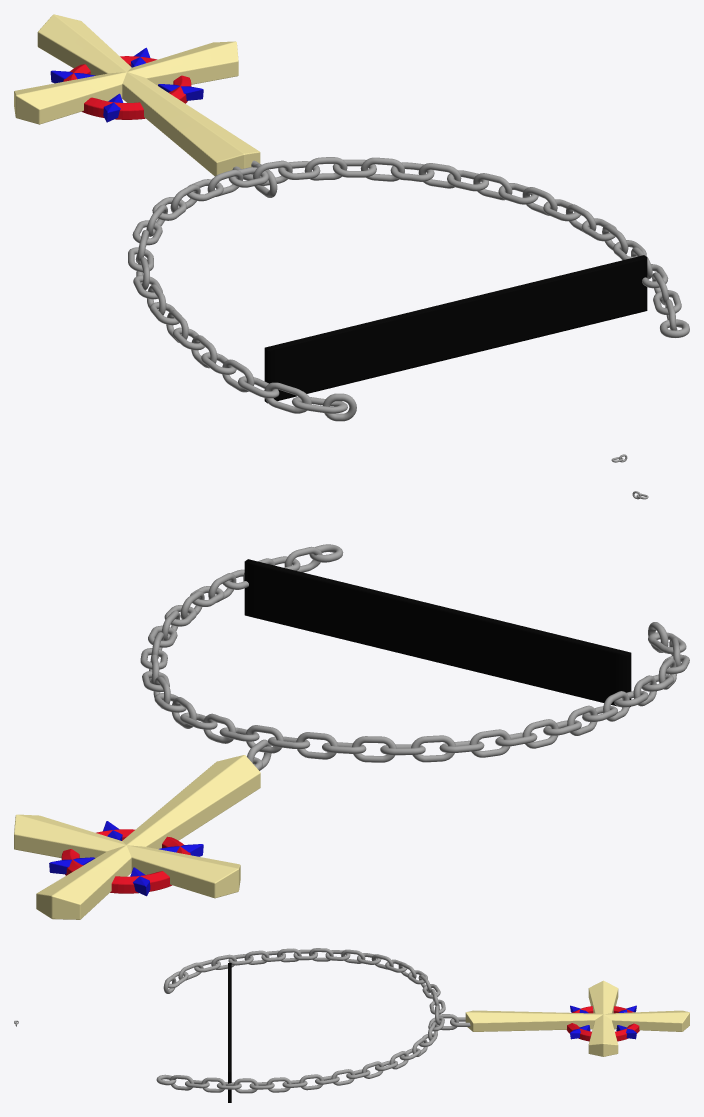
The model's file is Collier.glb.
The picture shows the model from 3 angles, top to bottom: view 1: azimuth 30°, elevation 25°; view 2: azimuth 150°, elevation 25°; view 3: azimuth 270°, elevation 25°; orthographic projection. The views are drawn at different scales.
Parts seen in each view (by area): view 1: Cube.001, chaine.001, Croix, Plan.003, Cercle, Plan.002; view 2: Cube.001, chaine.001, Croix, Plan.003, Cercle, Plan.002; view 3: chaine.001, Croix, Plan.003, Cercle, Cube.001, Plan.002, chaine.002.
Boxes of the visible parts, x1,y1,x2,y2 form: Cube.001: (264,255,647,403); chaine.001: (128,157,681,413); Croix: (37,14,260,176); Plan.003: (14,41,238,124); Cercle: (63,56,191,119); Plan.002: (50,47,203,122); Cube.001: (244,559,631,707); chaine.001: (140,546,689,762); Croix: (36,755,260,919); Plan.003: (14,814,240,898); Cercle: (61,829,190,893); Plan.002: (49,821,203,896); chaine.001: (165,948,445,1093); Croix: (465,1010,689,1031); Plan.003: (588,980,618,1056); Cercle: (567,1006,639,1041); Cube.001: (228,963,231,1102); Plan.002: (570,1005,636,1039); chaine.002: (435,1014,470,1030).
Size of the model in its own units: 5.98 by 0.9061 by 13.17.
